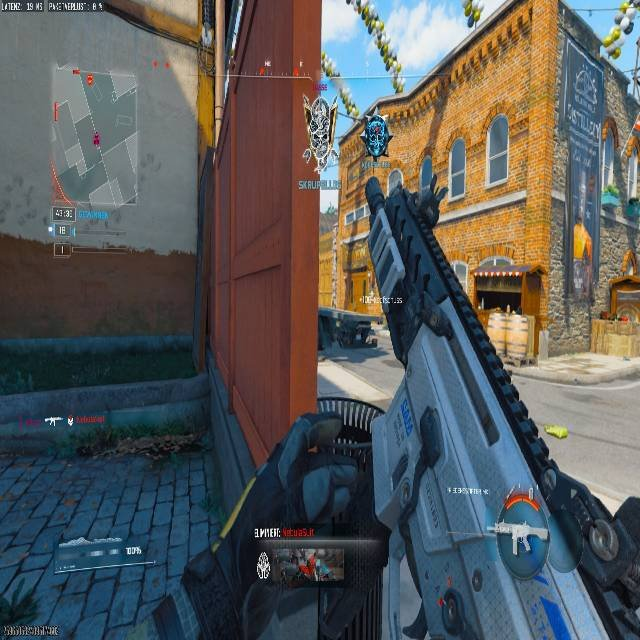player: (360, 114, 391, 160), (366, 327, 377, 346)
